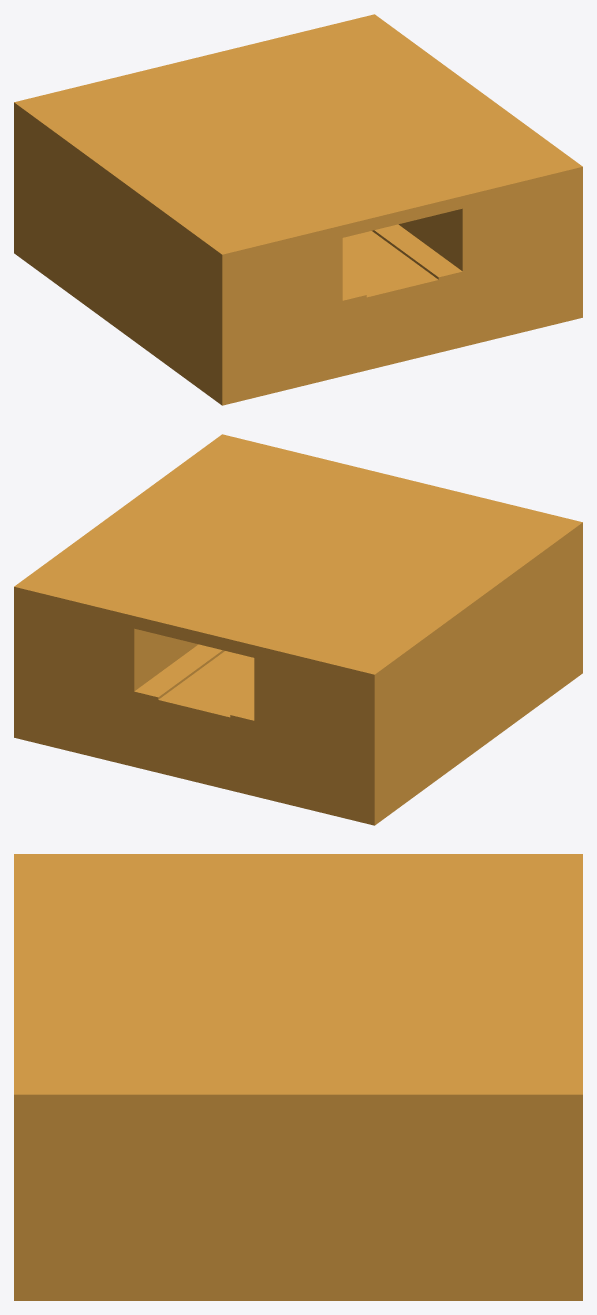
The model's file is tile-road-tunnel.glb.
3 views of the same model, one above another, from view 1: azimuth 30°, elevation 25°; view 2: azimuth 150°, elevation 25°; view 3: azimuth 270°, elevation 25° (orthographic). The views are drawn at different scales.
Parts seen in each view (by area): view 1: tile-road-tunnel; view 2: tile-road-tunnel; view 3: tile-road-tunnel.
Boxes of the visible parts, <box> form: tile-road-tunnel: <box>14,14,582,405</box>; tile-road-tunnel: <box>14,434,582,825</box>; tile-road-tunnel: <box>14,854,582,1300</box>.
Bounding box in the file's own units: 30 × 12 × 30.
